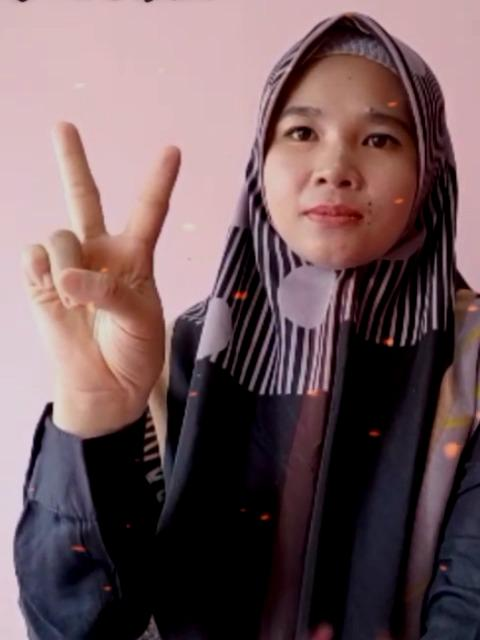V: (19, 116, 187, 414)
